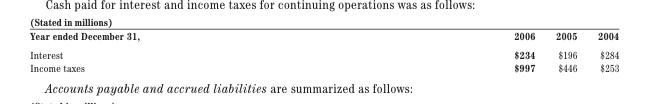table: (29, 29, 618, 72)
table column: (29, 29, 326, 72), (326, 29, 544, 72), (544, 29, 586, 72), (586, 29, 618, 72)
table column header: (29, 29, 618, 44)
table row: (29, 44, 618, 60), (29, 29, 618, 44), (29, 60, 618, 72)
